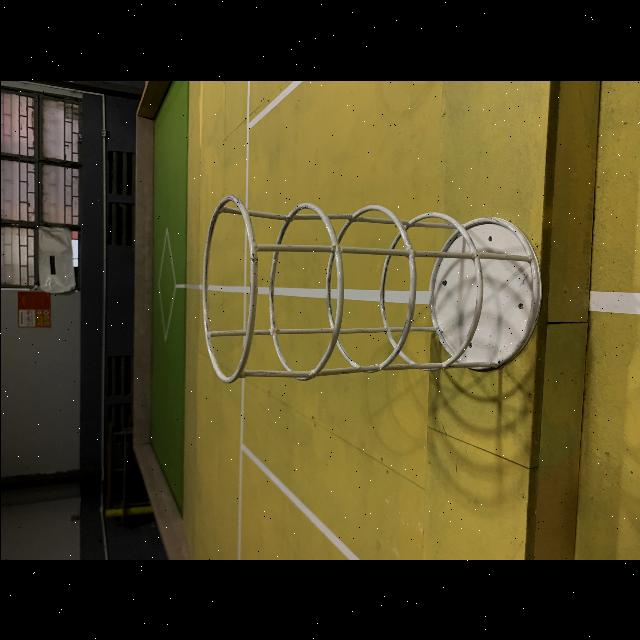S: (198, 192, 546, 386)
